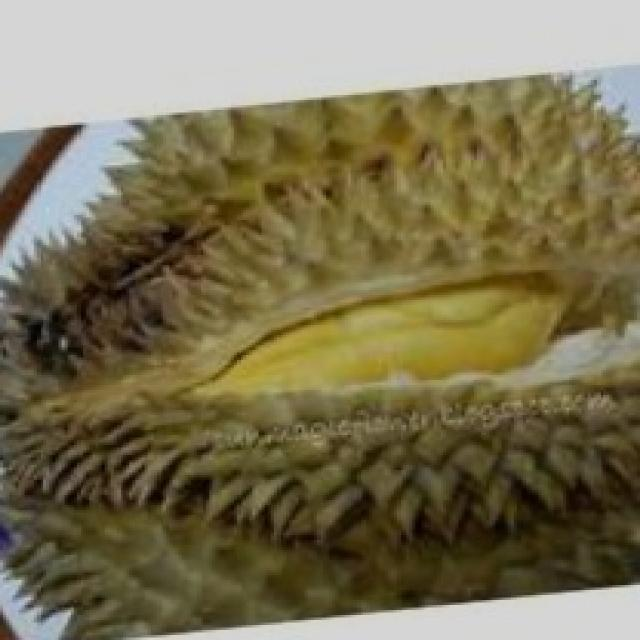fruit: (0, 147, 391, 615)
